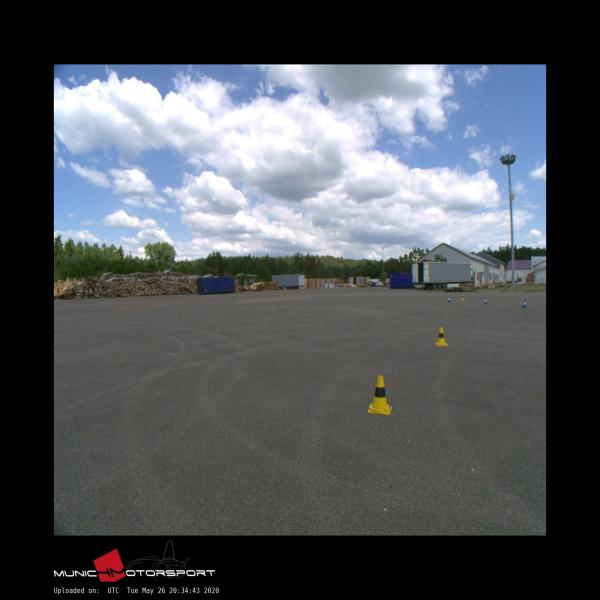blue_cone: (522, 300, 527, 308), (484, 297, 488, 304), (447, 296, 451, 302)
yellow_cone: (367, 376, 392, 414), (434, 326, 448, 346), (461, 294, 465, 300)
